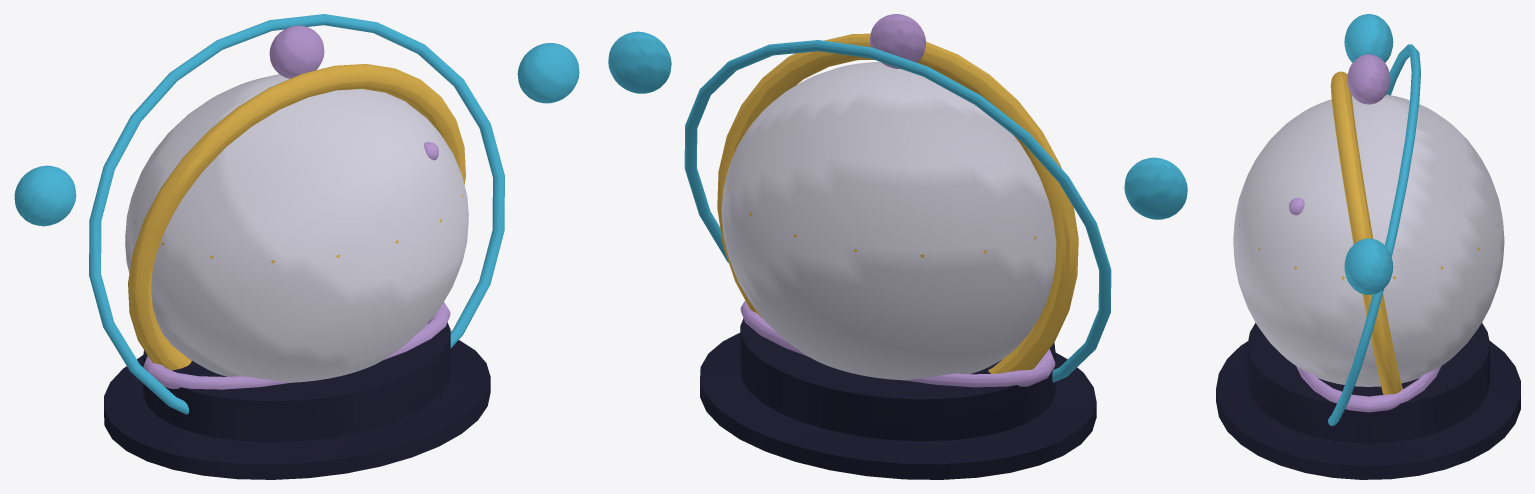
Rendered from 0032_天文图鉴_行星.glb.
3 views of the same model, side by side, from view 1: azimuth 30°, elevation 25°; view 2: azimuth 150°, elevation 25°; view 3: azimuth 270°, elevation 25° (orthographic). The views are drawn at different scales.
Visible parts, largest first — view 1: card_0032; view 2: card_0032; view 3: card_0032.
Part boxes in pixels (bbox=[...]): card_0032: bbox=[14, 14, 579, 479]; card_0032: bbox=[608, 14, 1187, 479]; card_0032: bbox=[1216, 14, 1520, 479].
Bounding box in the file's own units: 1.52 × 1 × 0.7873.
